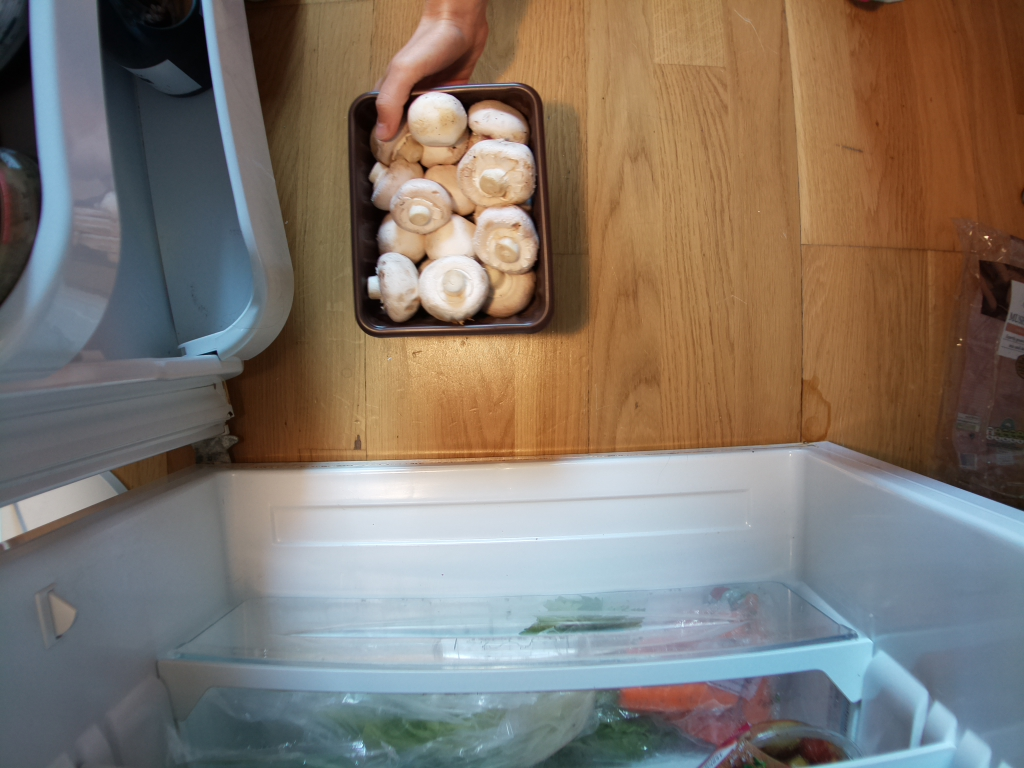mushrooms: (334, 83, 566, 344)
